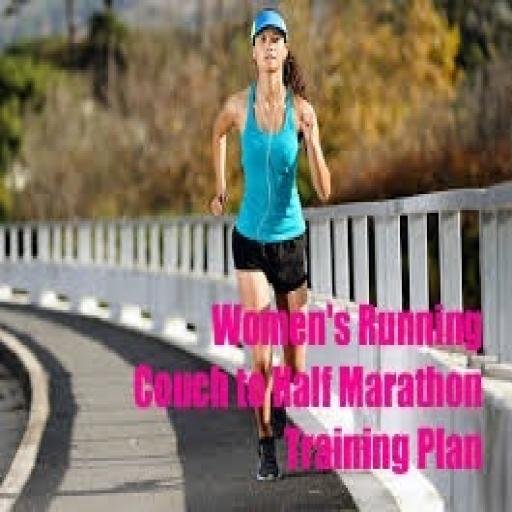running: (207, 5, 334, 485)
